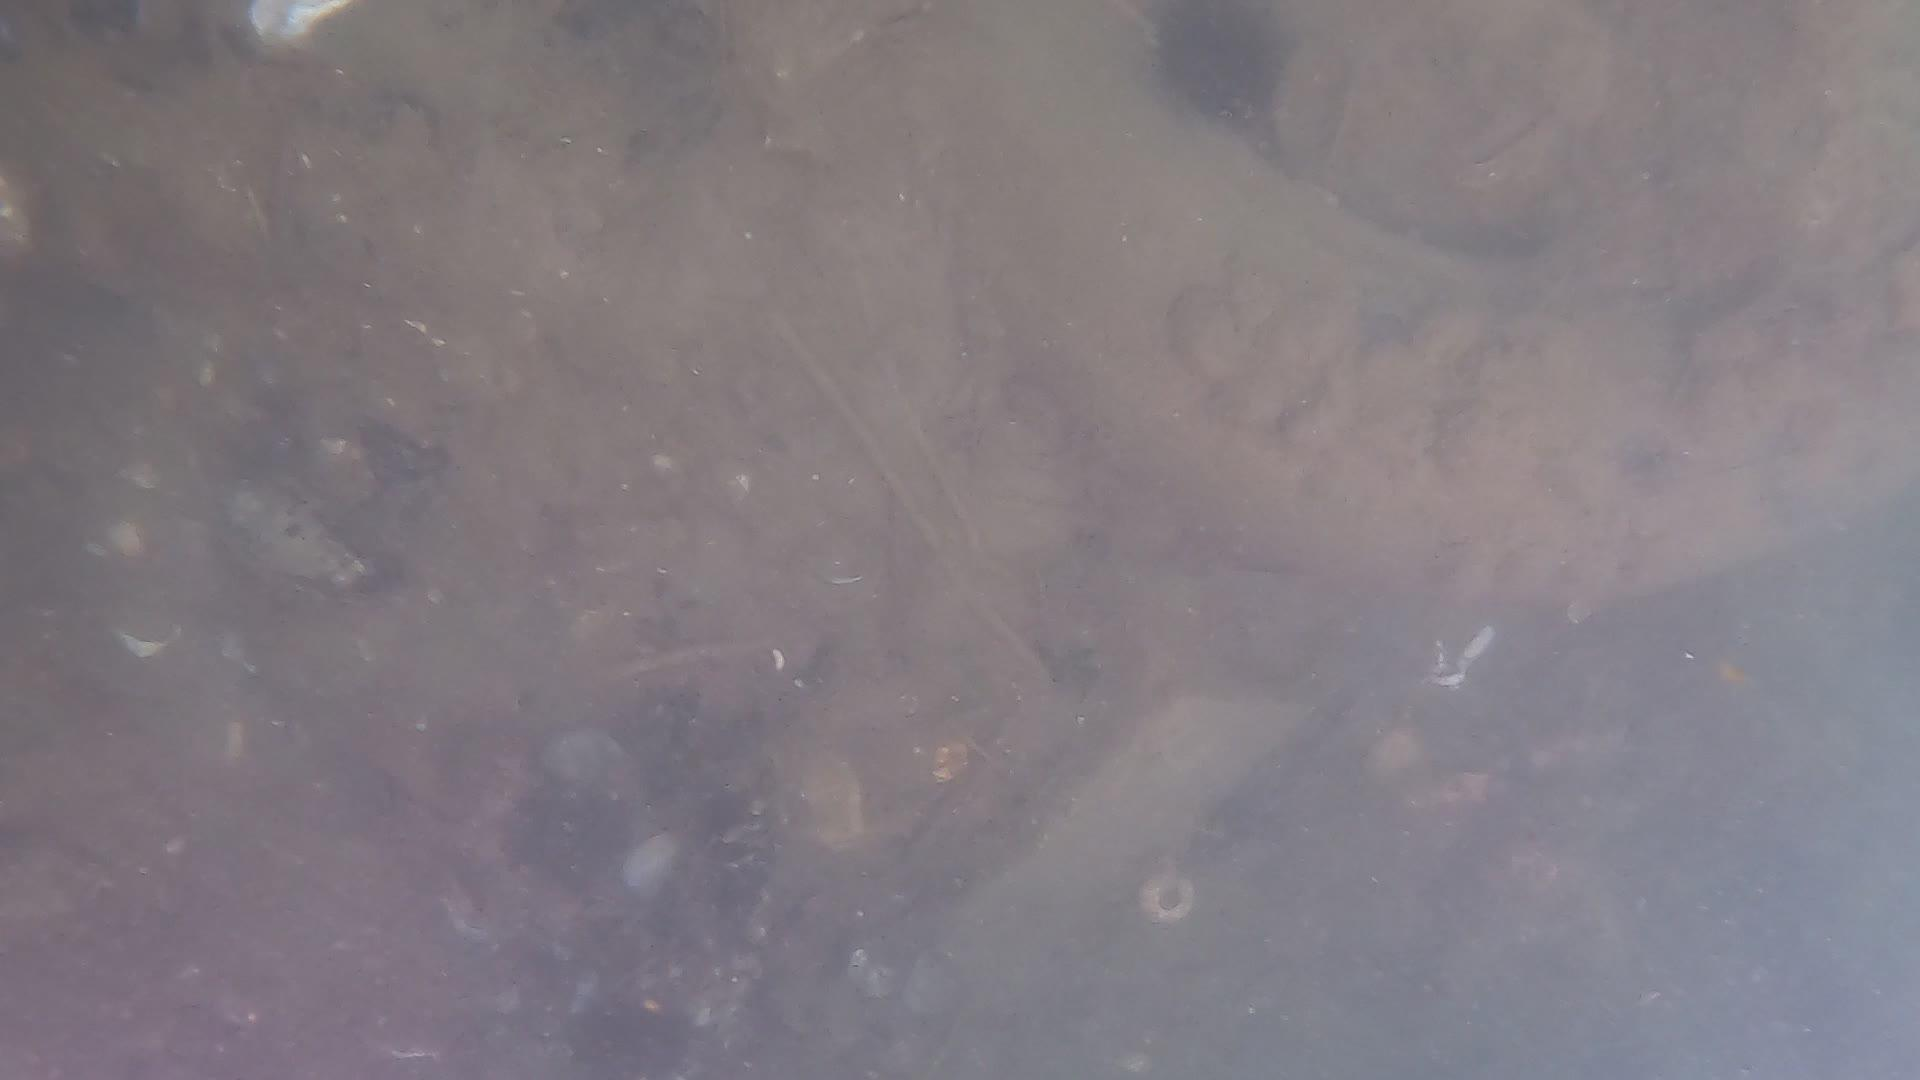tire: (936, 0, 1920, 607)
